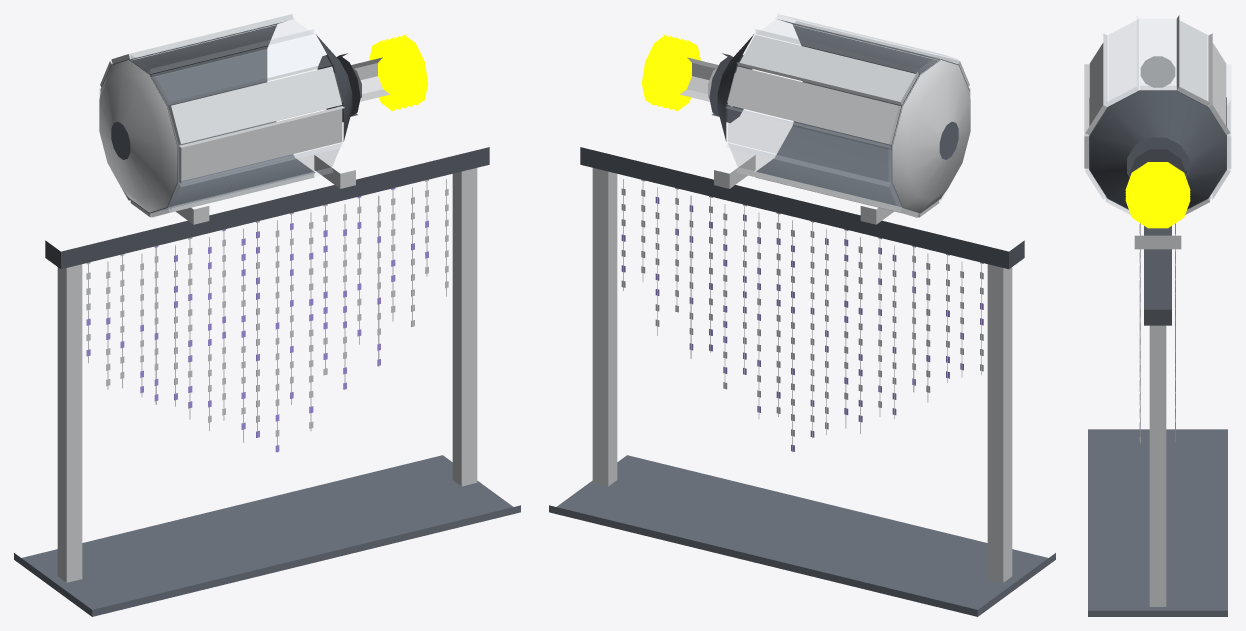
File: ext_memorial_aegis_05.glb
The picture shows the model from 3 angles, left to right: view 1: azimuth 30°, elevation 25°; view 2: azimuth 150°, elevation 25°; view 3: azimuth 270°, elevation 25°; orthographic projection. The views are drawn at different scales.
Parts seen in each view (by area): view 1: Floor_Plate, Posts, Drum_Hull_Strips, Drum_Solarium_Glass, Drum_Core, Fwd_Endcap_Dome, Beam, Tags_Ti, Fusion_Coils, Cables, Tags_Violet, Saddles (+2 smaller); view 2: Floor_Plate, Posts, Drum_Hull_Strips, Drum_Solarium_Glass, Drum_Core, Fwd_Endcap_Dome, Beam, Cables, Tags_Ti, Fusion_Coils, Tags_Violet, Aft_Baffle_Bulkhead (+2 smaller); view 3: Floor_Plate, Aft_Baffle_Bulkhead, Drum_Hull_Strips, Drum_Solarium_Glass, Posts, Fusion_Coils, Beam, Drum_Core, Fwd_Endcap_Dome, Saddles, Docking_Collar, Cables (+1 smaller).
Part boxes in pixels (left/top/right/bottom): Floor_Plate: left=14, top=455, right=520, bottom=616; Posts: left=57, top=168, right=477, bottom=582; Drum_Hull_Strips: left=100, top=14, right=344, bottom=217; Drum_Solarium_Glass: left=100, top=20, right=343, bottom=217; Drum_Core: left=100, top=21, right=315, bottom=213; Fwd_Endcap_Dome: left=99, top=59, right=177, bottom=212; Beam: left=45, top=147, right=489, bottom=269; Tags_Ti: left=86, top=179, right=448, bottom=436; Fusion_Coils: left=369, top=34, right=428, bottom=110; Cables: left=88, top=179, right=446, bottom=452; Tags_Violet: left=86, top=188, right=428, bottom=452; Saddles: left=176, top=155, right=355, bottom=224; Floor_Plate: left=549, top=455, right=1055, bottom=616; Posts: left=592, top=168, right=1012, bottom=582; Drum_Hull_Strips: left=727, top=21, right=970, bottom=217; Drum_Solarium_Glass: left=726, top=14, right=957, bottom=209; Drum_Core: left=756, top=19, right=969, bottom=213; Fwd_Endcap_Dome: left=892, top=59, right=970, bottom=212; Beam: left=580, top=147, right=1024, bottom=269; Cables: left=623, top=179, right=981, bottom=452; Tags_Ti: left=621, top=179, right=983, bottom=436; Fusion_Coils: left=641, top=34, right=700, bottom=110; Tags_Violet: left=621, top=197, right=983, bottom=451; Aft_Baffle_Bulkhead: left=717, top=34, right=753, bottom=141; Floor_Plate: left=1088, top=429, right=1227, bottom=616; Aft_Baffle_Bulkhead: left=1089, top=91, right=1226, bottom=208; Drum_Hull_Strips: left=1084, top=15, right=1230, bottom=214; Drum_Solarium_Glass: left=1085, top=16, right=1231, bottom=214; Posts: left=1149, top=325, right=1166, bottom=606; Fusion_Coils: left=1125, top=162, right=1190, bottom=228; Beam: left=1144, top=226, right=1171, bottom=325; Drum_Core: left=1089, top=90, right=1226, bottom=209; Fwd_Endcap_Dome: left=1140, top=56, right=1175, bottom=87; Saddles: left=1134, top=235, right=1181, bottom=249; Docking_Collar: left=1129, top=149, right=1186, bottom=175; Cables: left=1140, top=223, right=1175, bottom=444.
Bounding box in the file's own units: 3.8 × 4.28 × 1.26.
